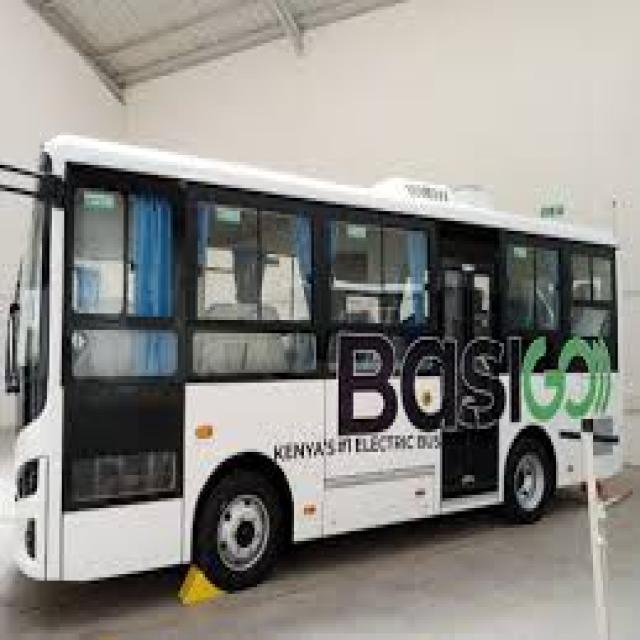bus: (0, 71, 635, 627)
